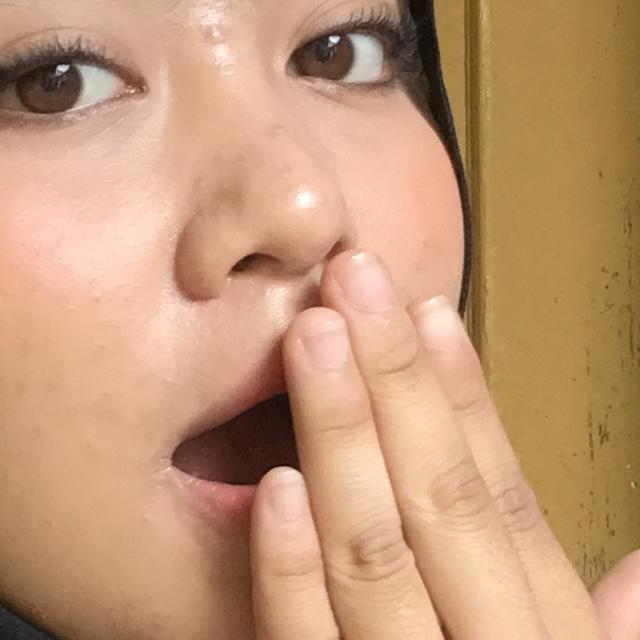ngantuk: (170, 211, 640, 640)
